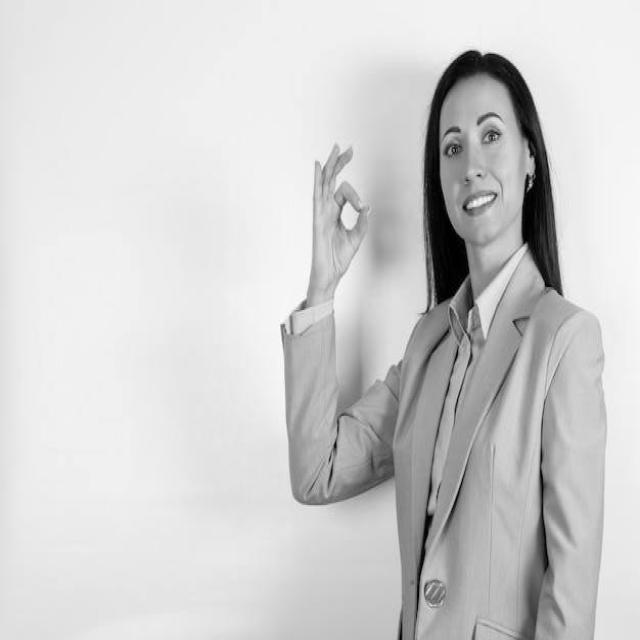perfect: (303, 135, 376, 302)
